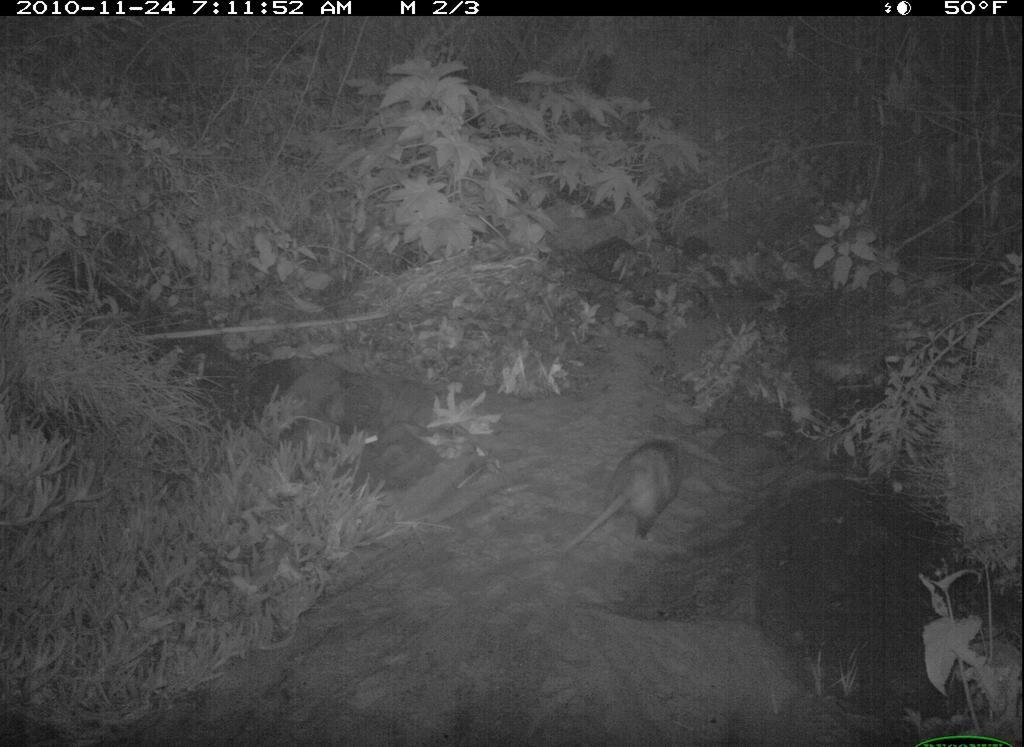opossum: (545, 434, 706, 570)
